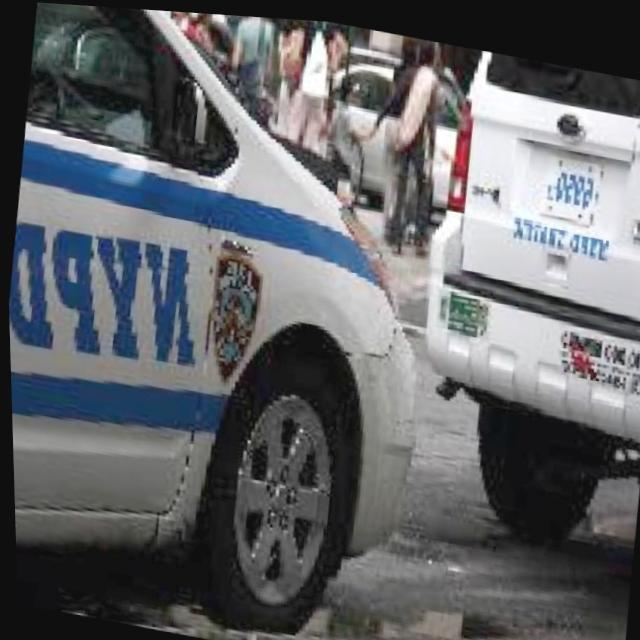emergency: (0, 0, 470, 640)
